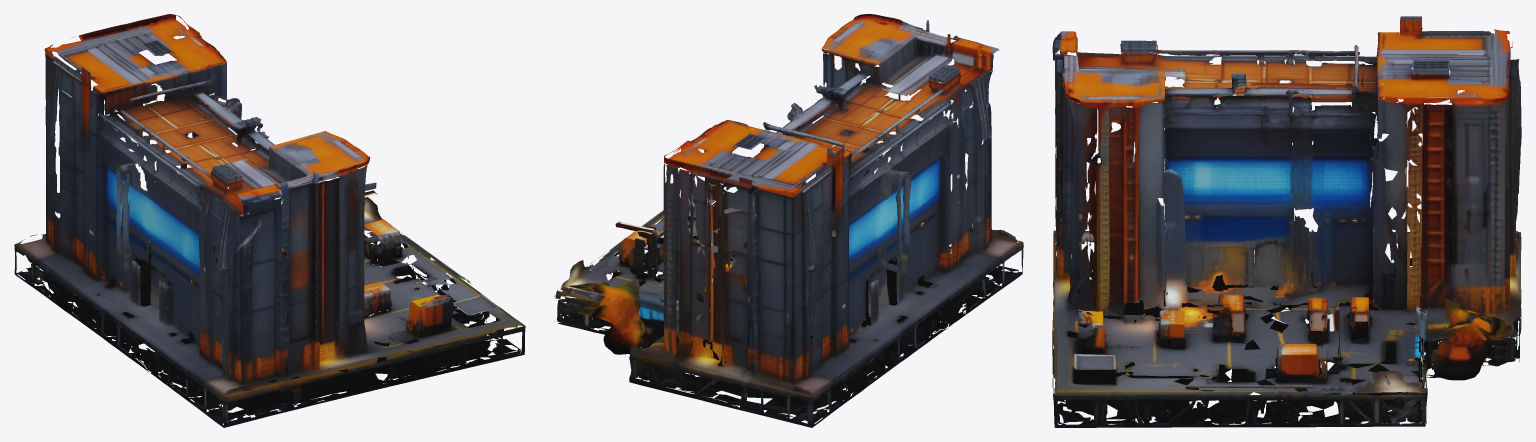
The model's file is foundry.glb.
3 renders of one model, left to right at view 1: azimuth 30°, elevation 25°; view 2: azimuth 150°, elevation 25°; view 3: azimuth 270°, elevation 25°, orthographic. The views are drawn at different scales.
Parts seen in each view (by area): view 1: geometry_0.2353; view 2: geometry_0.2353; view 3: geometry_0.2353.
Part boxes in pixels (x1,y1,x2,y2): geometry_0.2353: (14, 14, 525, 427); geometry_0.2353: (554, 14, 1023, 427); geometry_0.2353: (1052, 16, 1521, 427).
Size of the model in its own units: 2.41 by 1.84 by 2.94.
Materials: 1 (1 with a texture image).
